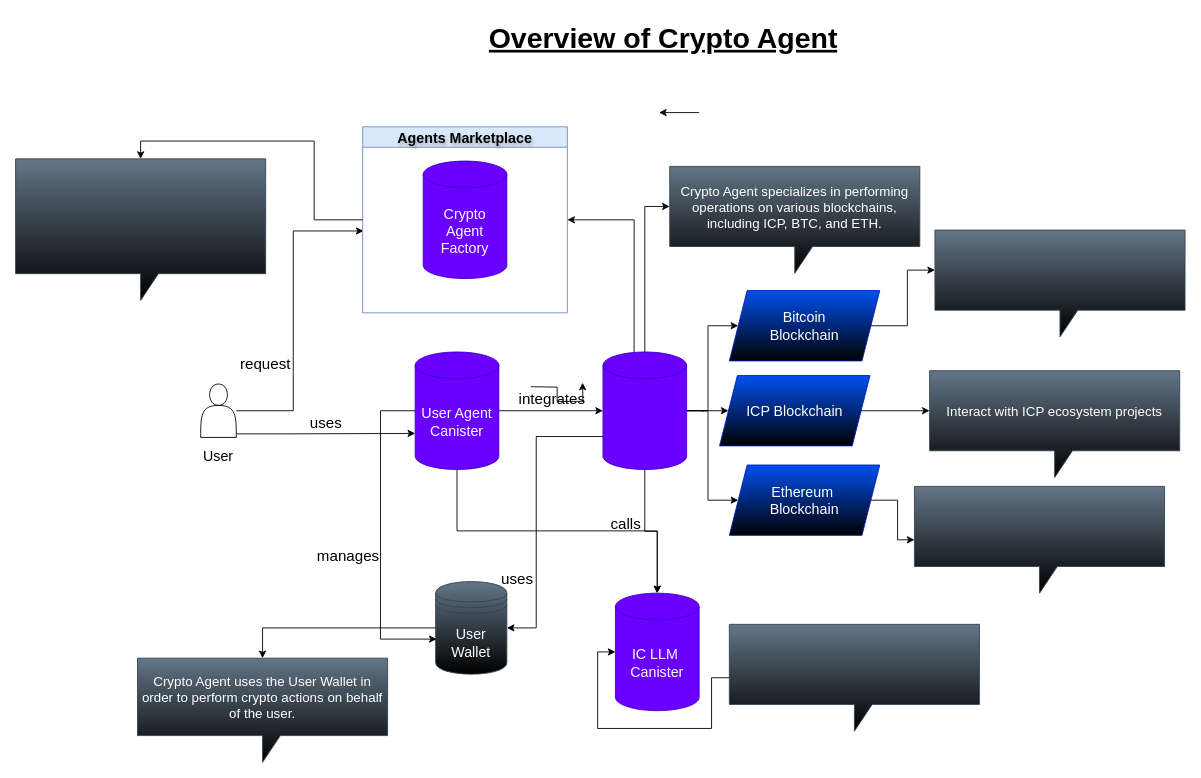
This 1201x778 diagram has some shape labels left out. The centre of each missing label's shape, as x and y in pixels:
Agent Marketplace allows users to integrate agents as per their use case.: point 140,229
Crypto Agent: point 644,410
Interact with the Ethereum ecosystem using EVM RPC Canister: point 1039,539
Performs Bitcoin transactions using Direct Bitcoin Integration: point 1059,283
User and Crypto Agent interact with the IC LLM Canister to fulfill user requests: point 853,677
